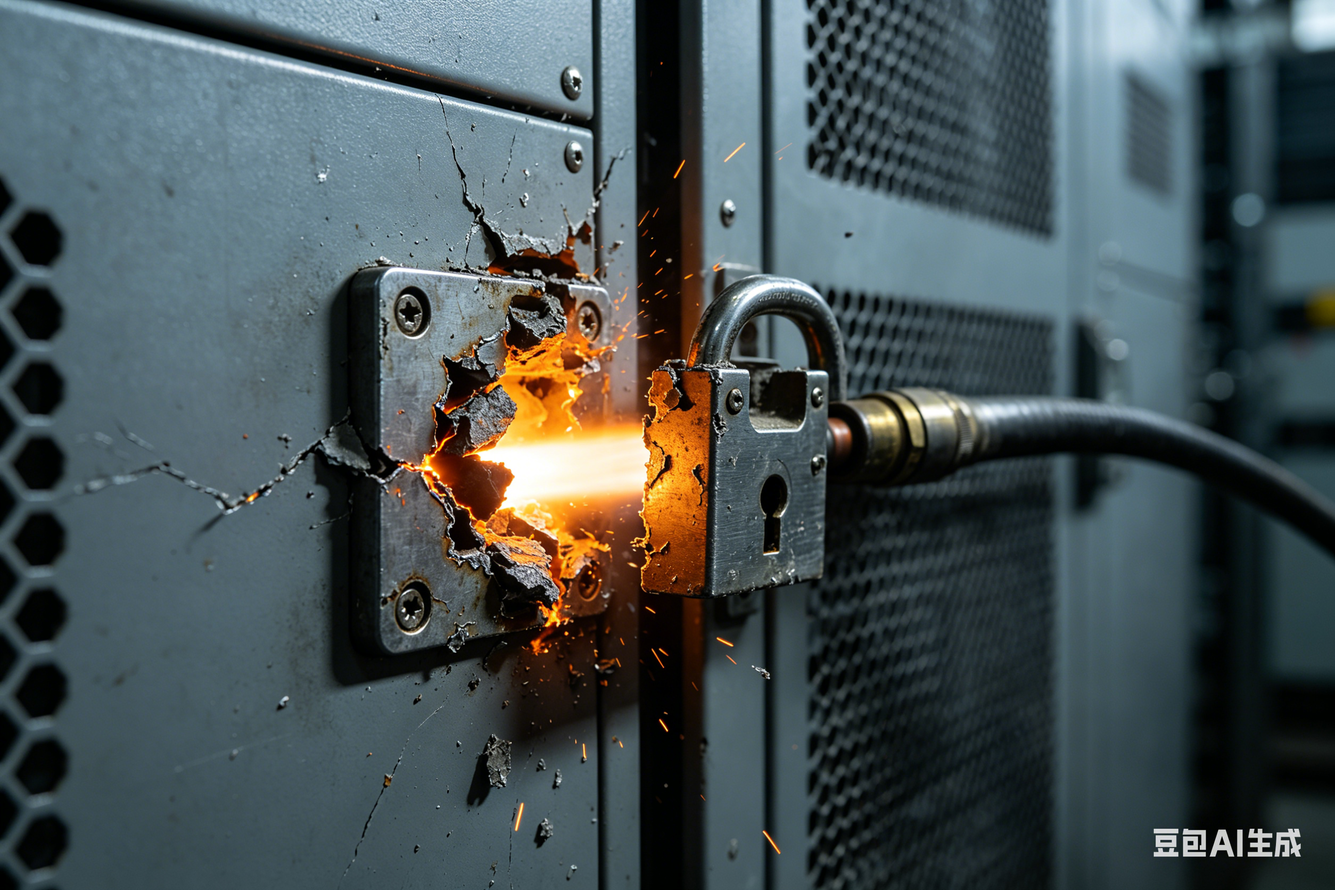BadLock: (421, 278, 706, 597)
